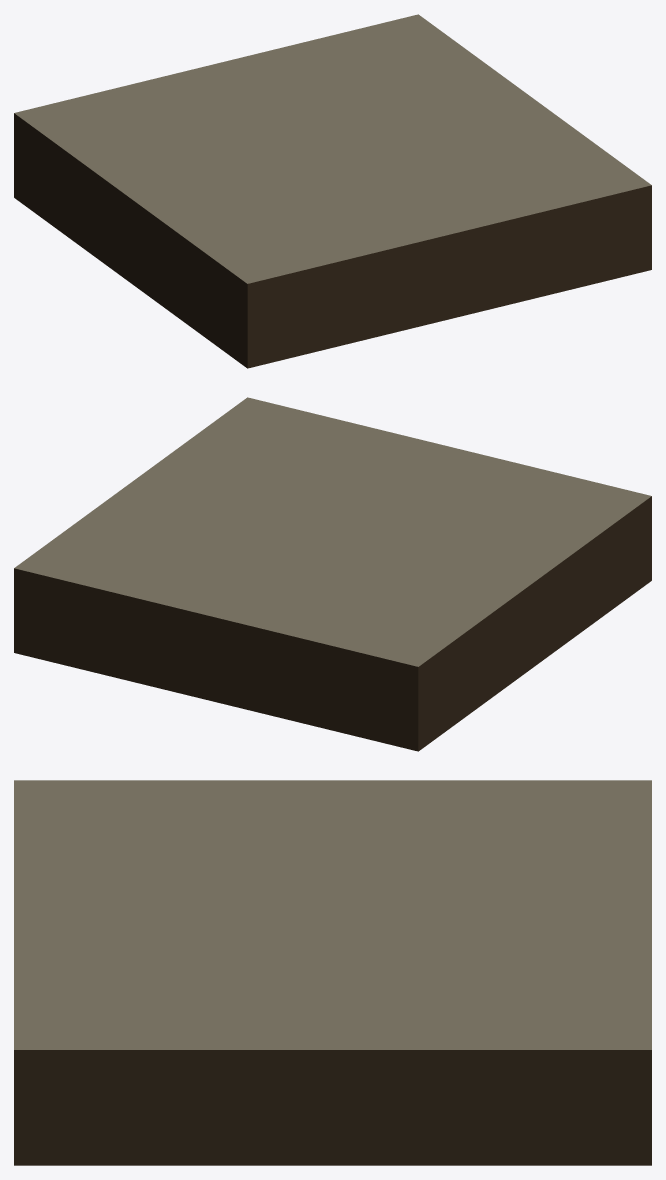
Rendered from SecondFloor_3x3__30cmBeams_1mSpacing.fbx.
3 renders of one model, top to bottom at view 1: azimuth 30°, elevation 25°; view 2: azimuth 150°, elevation 25°; view 3: azimuth 270°, elevation 25°, orthographic. The views are drawn at different scales.
Visible parts, largest first — view 1: SecondFloor_3x3__30cmBeams_1mSpacing; view 2: SecondFloor_3x3__30cmBeams_1mSpacing; view 3: SecondFloor_3x3__30cmBeams_1mSpacing.
Boxes of the visible parts, <box> form: SecondFloor_3x3__30cmBeams_1mSpacing: <box>14,14,651,368</box>; SecondFloor_3x3__30cmBeams_1mSpacing: <box>14,397,651,751</box>; SecondFloor_3x3__30cmBeams_1mSpacing: <box>14,780,651,1165</box>.
Size of the model in its own units: 3 by 0.6 by 3.
